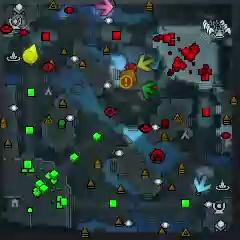Other: (120, 76, 133, 89)
p4: (23, 44, 39, 63)
x1: (96, 1, 113, 16)
x2: (138, 54, 154, 71)
x3: (193, 176, 211, 192)
x4: (140, 82, 159, 98)
x5: (120, 69, 136, 85)
